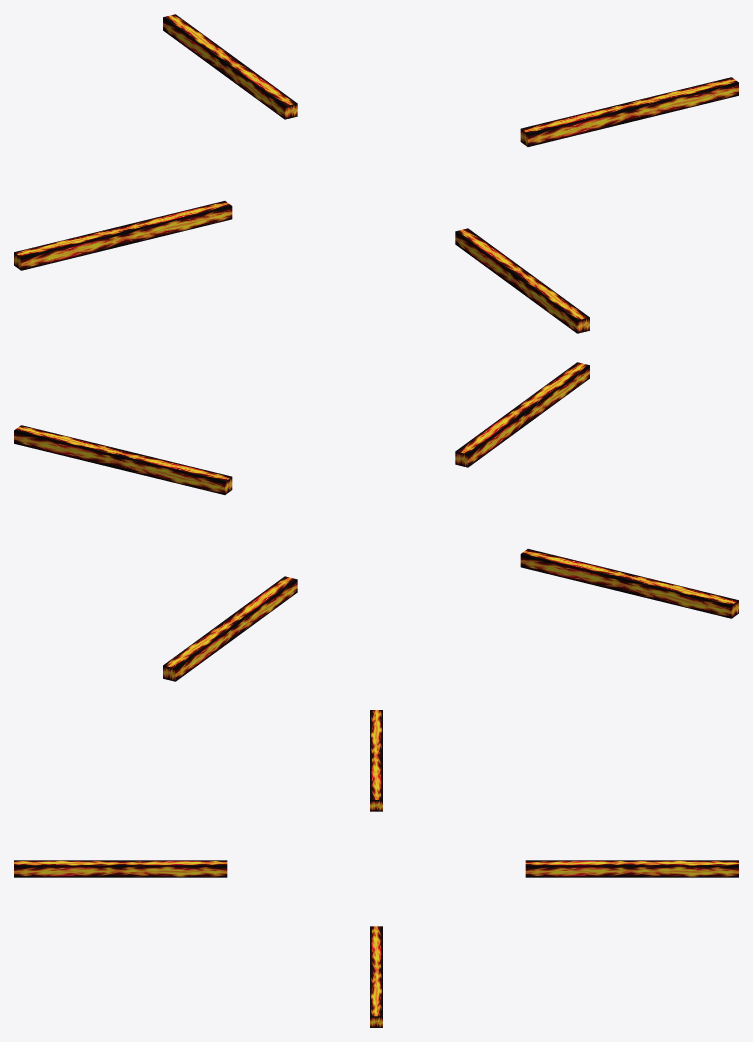
The model's file is 0513_zhunxin_z01.glb.
3 views of the same model, one above another, from view 1: azimuth 30°, elevation 25°; view 2: azimuth 150°, elevation 25°; view 3: azimuth 270°, elevation 25° (orthographic). The views are drawn at different scales.
Size of the model in its own units: 2.2 by 0.0388 by 2.2.
Materials: 1 (1 with a texture image).
